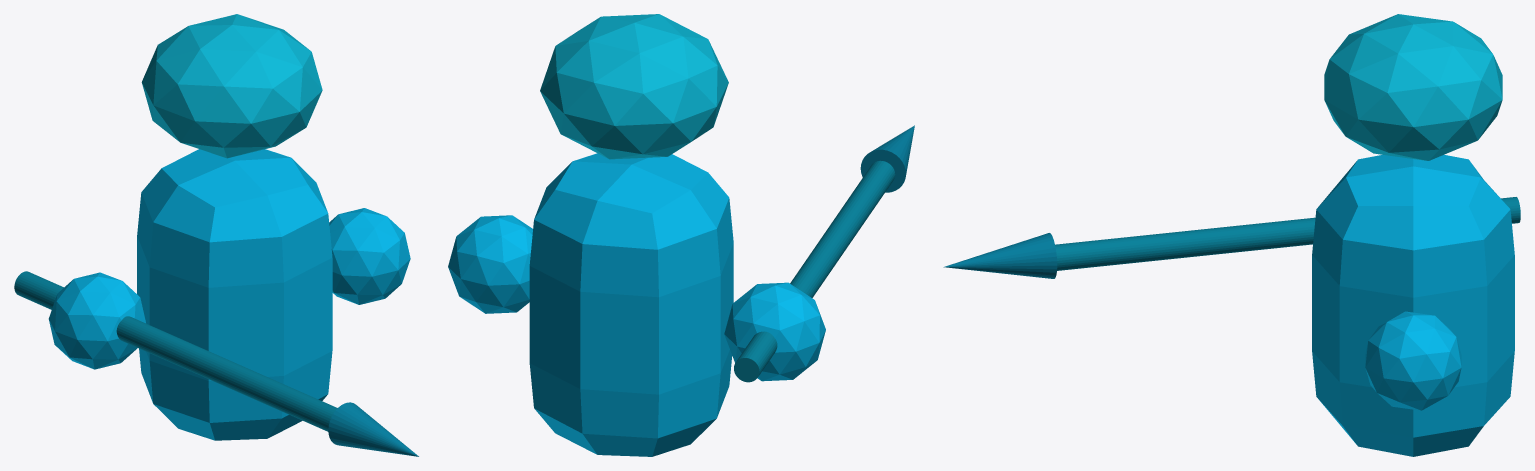
3 renders of one model, left to right at view 1: azimuth 30°, elevation 25°; view 2: azimuth 150°, elevation 25°; view 3: azimuth 270°, elevation 25°, orthographic. The views are drawn at different scales.
Visible parts, largest first — view 1: 立方体, 棱角球.002, 柱体, 棱角球.001, 棱角球, 锥体; view 2: 立方体, 棱角球.002, 棱角球, 棱角球.001, 柱体, 锥体; view 3: 立方体, 棱角球.002, 棱角球, 柱体, 锥体.
Part boxes in pixels (bbox=[...]): 立方体: bbox=[137, 149, 332, 440]; 棱角球.002: bbox=[141, 14, 322, 158]; 柱体: bbox=[14, 271, 337, 431]; 棱角球.001: bbox=[48, 272, 145, 369]; 棱角球: bbox=[329, 208, 410, 304]; 锥体: bbox=[328, 402, 418, 456]; 立方体: bbox=[529, 153, 733, 456]; 棱角球.002: bbox=[540, 14, 728, 159]; 棱角球: bbox=[448, 215, 532, 313]; 棱角球.001: bbox=[724, 282, 825, 381]; 柱体: bbox=[734, 160, 895, 382]; 锥体: bbox=[860, 125, 914, 192]; 立方体: bbox=[1312, 154, 1514, 456]; 棱角球.002: bbox=[1324, 14, 1502, 160]; 棱角球: bbox=[1365, 311, 1461, 410]; 柱体: bbox=[1055, 197, 1520, 270]; 锥体: bbox=[943, 233, 1057, 278].
Bounding box in the file's own units: 236 × 328 × 259.
